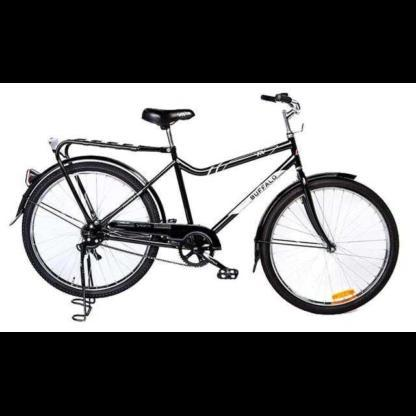Bicycle: (6, 80, 405, 329)
